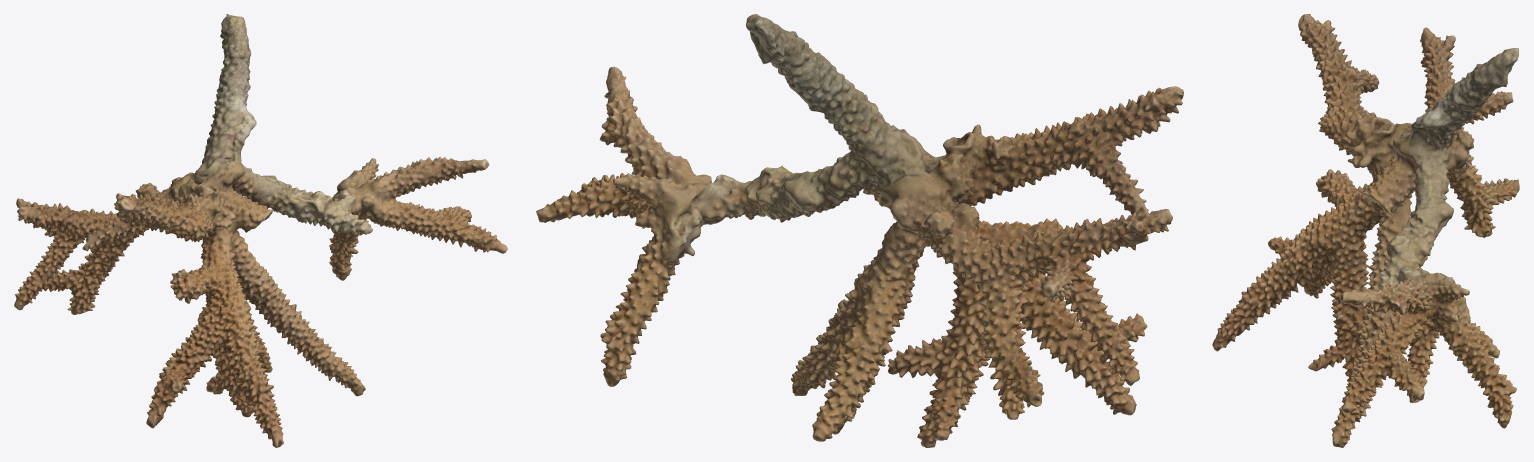
Rendered from smithsonian-acropora-cervicornis.glb.
3 views of the same model, side by side, from view 1: azimuth 30°, elevation 25°; view 2: azimuth 150°, elevation 25°; view 3: azimuth 270°, elevation 25° (orthographic). The views are drawn at different scales.
Size of the model in its own units: 0.2159 by 0.1549 by 0.1143.
1 material, 1 textured.
